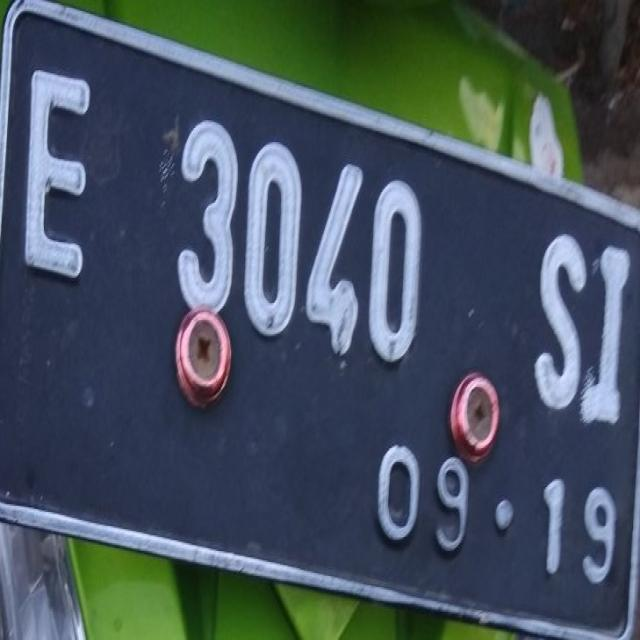plate: (1, 0, 638, 637)
